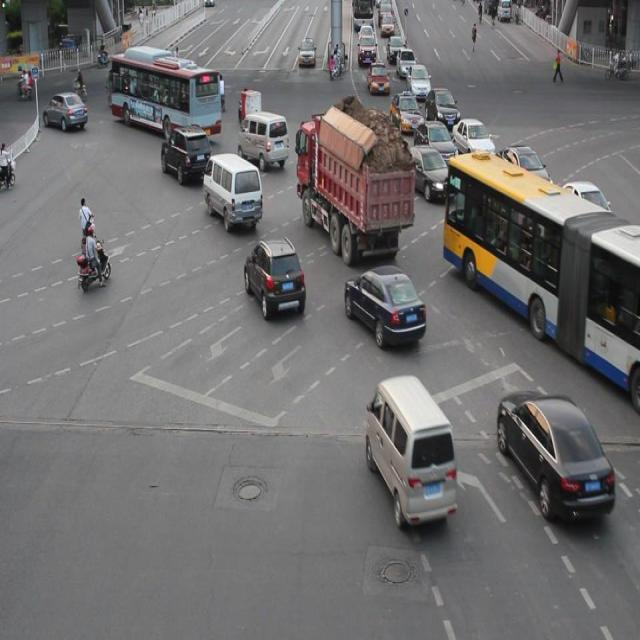bus: (296, 114, 414, 263)
car: (496, 389, 613, 520), (343, 264, 426, 346), (242, 237, 304, 314), (496, 143, 551, 202), (472, 170, 523, 233), (559, 178, 611, 236), (161, 124, 212, 182), (402, 144, 452, 200), (412, 119, 457, 167), (451, 115, 494, 161), (388, 90, 422, 133), (425, 86, 458, 125)
truck: (365, 374, 456, 526), (202, 152, 262, 228), (236, 110, 288, 170)
van: (442, 153, 640, 397), (110, 52, 222, 139)
